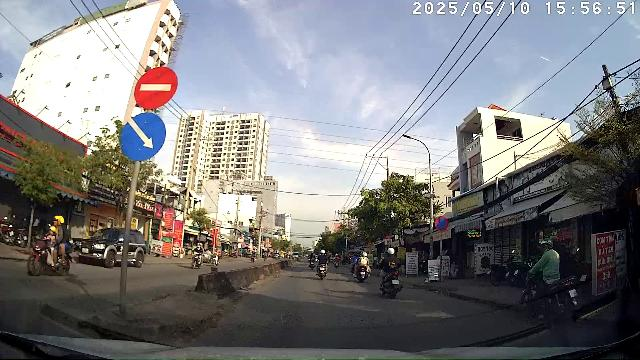102-cam-di-nguoc-chieu: (134, 66, 179, 110)
131a-cam-do-xe: (434, 216, 449, 231)
302a-huong-phai-di-vong-chuong-ngai-vat-1: (119, 112, 167, 161)
